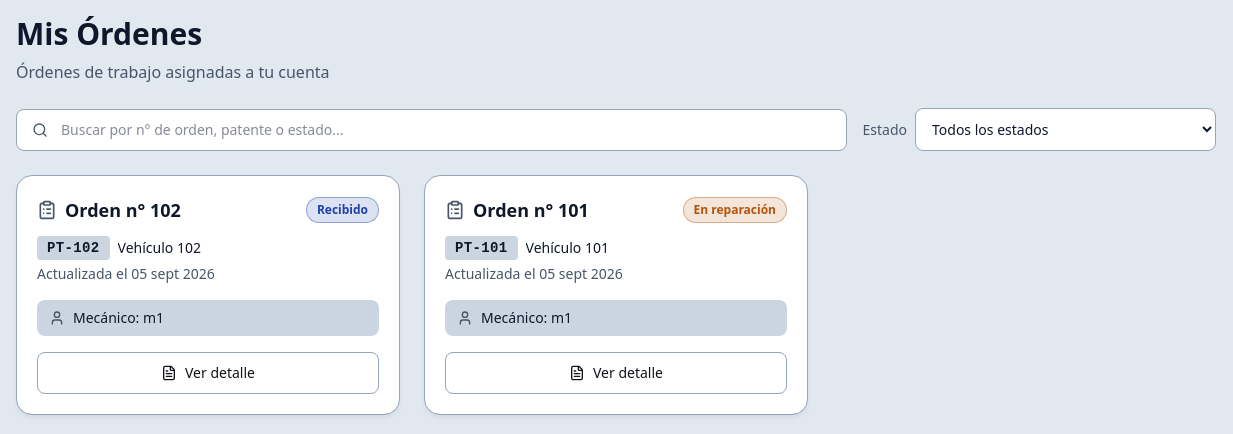
Test case: MechanicOrdersPage: mis órdenes del mecánico › busca también por el nombre del estado
Expected: the text "Orden n° 101" is shown, left=473, top=196, right=589, bottom=224
Expected: the text "Orden n° 102" is shown, left=65, top=196, right=181, bottom=224
Type "Recibido" into the search field with placeholder "Buscar por n° de orden, patente o estado...".
click(431, 130); type("Recibido")  # box left=16, top=108, right=846, bottom=150
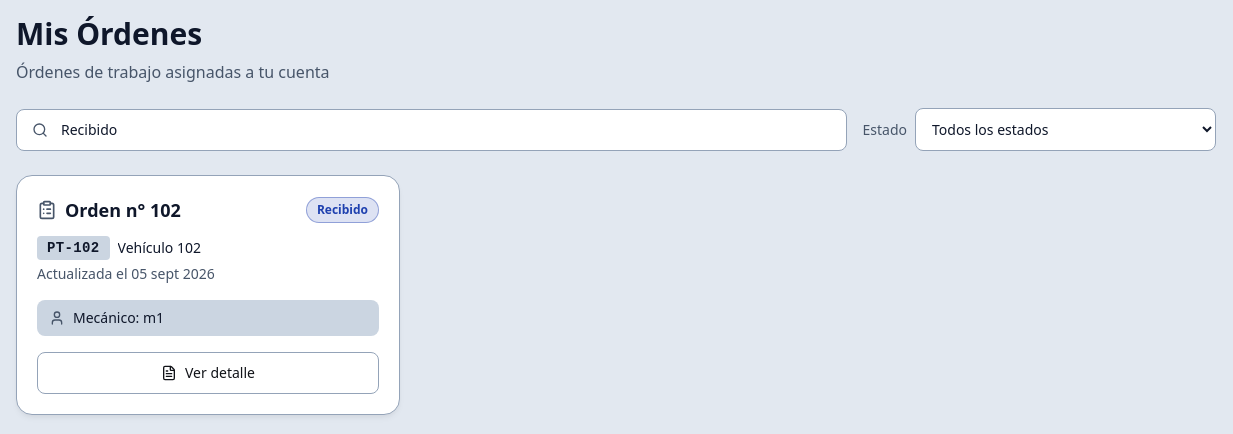
Expected: the text "Orden n° 102" is shown, left=65, top=196, right=181, bottom=224
Expected: the text "Orden n° 101" is gone
